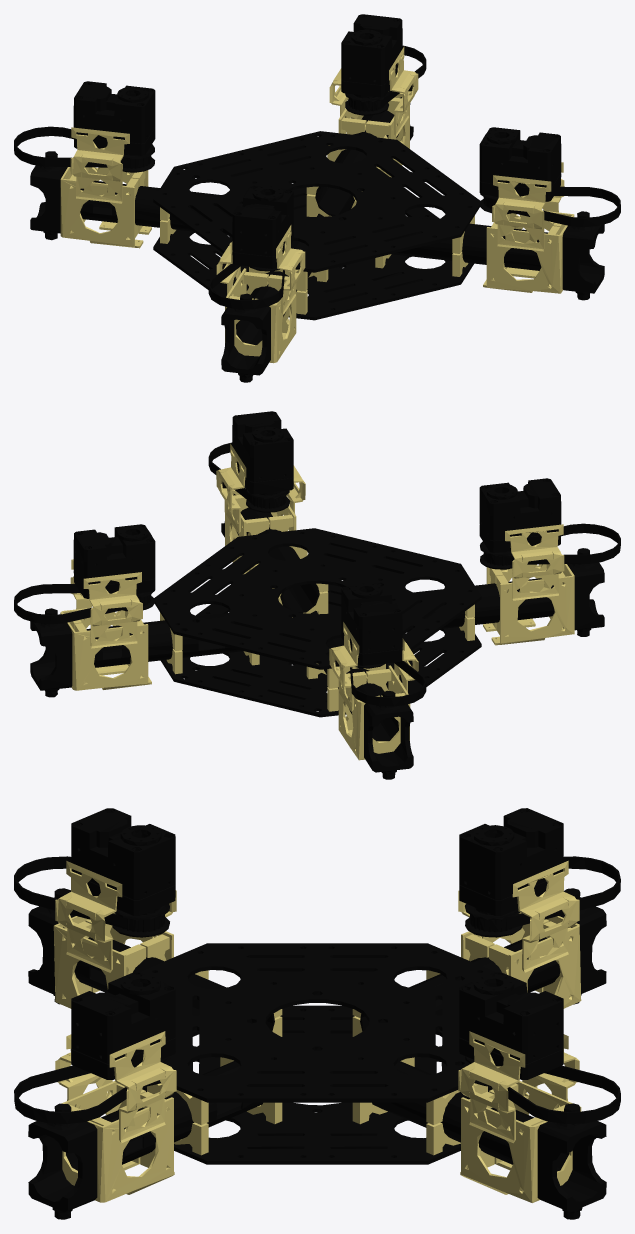
Rendered from center_link.dae.
3 renders of one model, top to bottom at view 1: azimuth 30°, elevation 25°; view 2: azimuth 150°, elevation 25°; view 3: azimuth 270°, elevation 25°, orthographic. The views are drawn at different scales.
Parts seen in each view (by area): view 1: center_link_black, center_link_gold; view 2: center_link_black, center_link_gold; view 3: center_link_black, center_link_gold.
Boxes of the visible parts, x1,y1,x2,y2 form: center_link_black: (14,14,620,382); center_link_gold: (60,46,574,363); center_link_black: (14,411,620,779); center_link_gold: (60,443,574,760); center_link_black: (14,808,620,1219); center_link_gold: (53,860,581,1202).
Bounding box in the file's own units: 0.2917 × 0.2917 × 0.1063.
